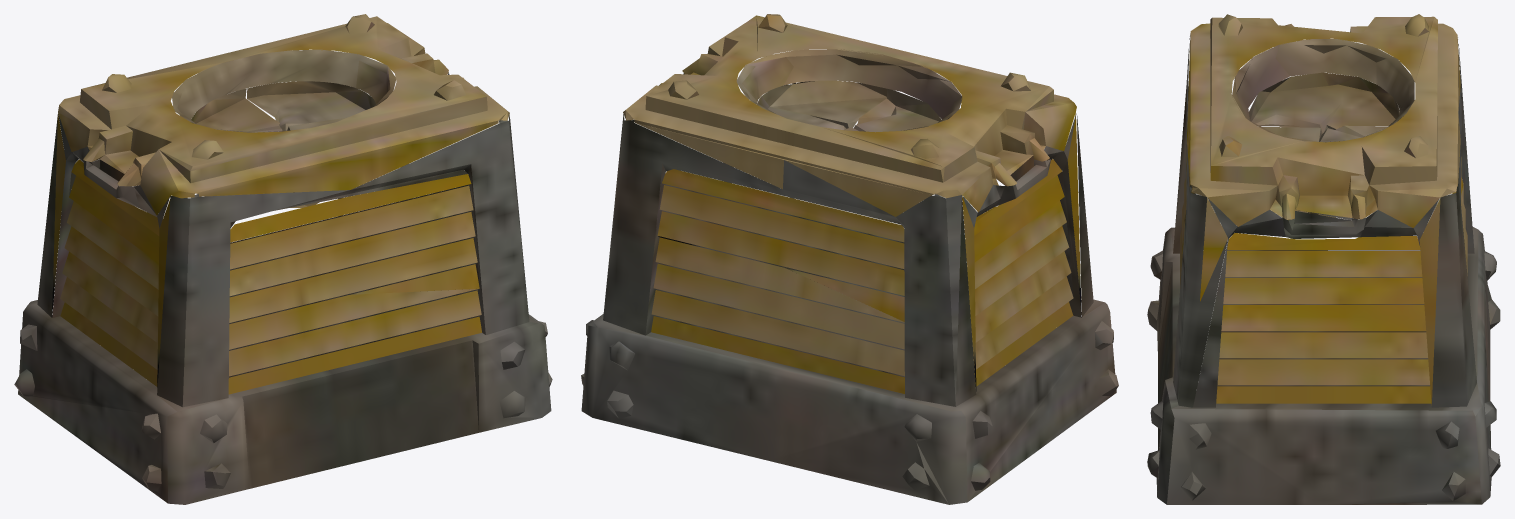
Rendered from storage-chest.glb.
3 renders of one model, left to right at view 1: azimuth 30°, elevation 25°; view 2: azimuth 150°, elevation 25°; view 3: azimuth 270°, elevation 25°, orthographic. The views are drawn at different scales.
Parts seen in each view (by area): view 1: body, anim_hatch_e, anim_hatch_w; view 2: body, anim_hatch_e, anim_hatch_w; view 3: body, anim_hatch_w, anim_hatch_e.
Part boxes in pixels (box(x1,y1,x2,y2)): body: box(14, 14, 552, 504); anim_hatch_e: box(247, 81, 375, 131); anim_hatch_w: box(191, 88, 282, 132); body: box(581, 14, 1118, 504); anim_hatch_e: box(757, 80, 886, 129); anim_hatch_w: box(844, 88, 941, 132); body: box(1147, 14, 1500, 504); anim_hatch_w: box(1249, 72, 1399, 134); anim_hatch_e: box(1262, 125, 1388, 142).
Bounding box in the file's own units: 1.01 × 0.7617 × 0.7356.
Materials: 1 (1 with a texture image).
